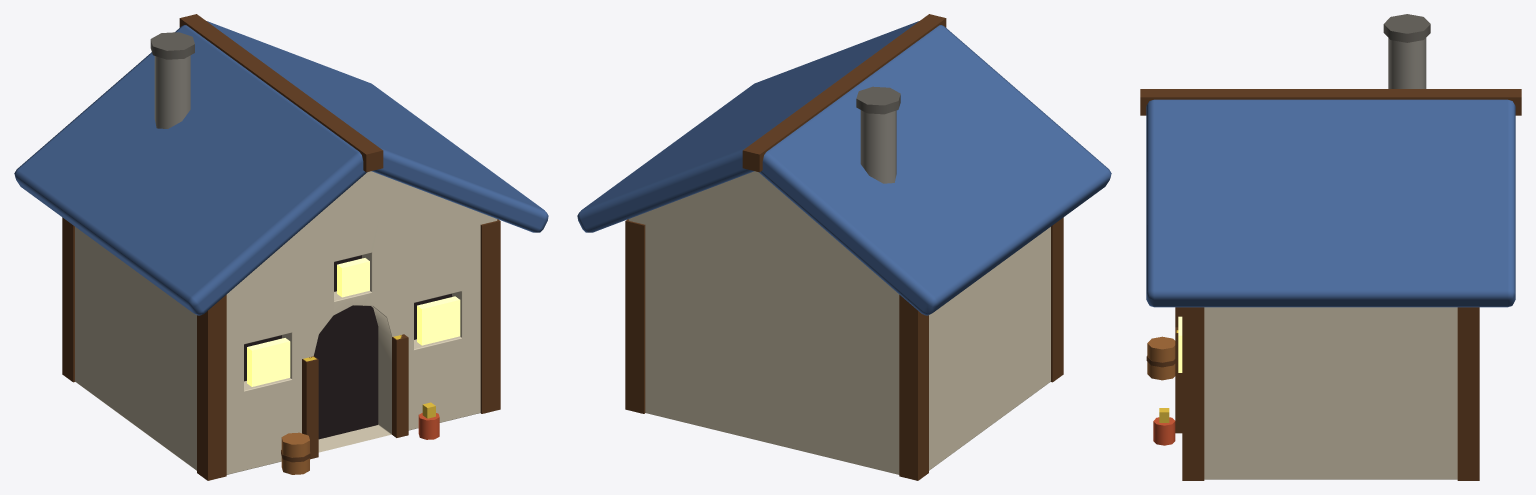
File: Buildings__cottage_b.glb
3 views of the same model, side by side, from view 1: azimuth 30°, elevation 25°; view 2: azimuth 150°, elevation 25°; view 3: azimuth 270°, elevation 25° (orthographic). The views are drawn at different scales.
Visible parts, largest first — view 1: cottage_b_mesh; view 2: cottage_b_mesh; view 3: cottage_b_mesh.
Boxes of the visible parts, <box> form: cottage_b_mesh: <box>14,14,548,480</box>; cottage_b_mesh: <box>577,14,1111,480</box>; cottage_b_mesh: <box>1140,14,1521,480</box>.
Bounding box in the file's own units: 2.11 × 1.91 × 1.9.
